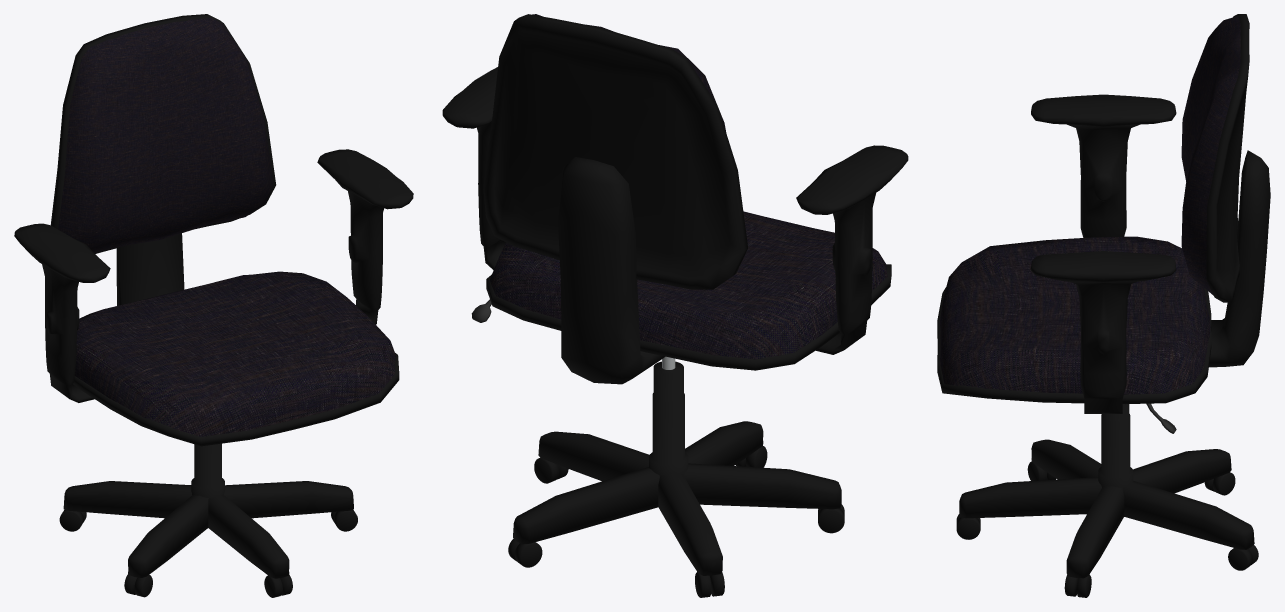
File: Chair3.fbx
3 renders of one model, left to right at view 1: azimuth 30°, elevation 25°; view 2: azimuth 150°, elevation 25°; view 3: azimuth 270°, elevation 25°, orthographic. The views are drawn at different scales.
Visible parts, largest first — view 1: Backrest, Seat, Arms, Foot 2, Foot 4, Base seat and backrest, Foot 1, Foot 5, Rubber seat, Rubber back, Base; view 2: Rubber back, Seat, Base seat and backrest, Arms, Foot 3, Foot 5, Foot 4, Foot 2, Rubber seat, Base, Foot 1; view 3: Seat, Arms, Backrest, Base seat and backrest, Rubber back, Foot 3, Foot 1, Foot 2, Foot 4, Rubber seat, Base, Foot 5.
Part boxes in pixels (x1,y1,x2,y2): Backrest: (58,18,273,253); Seat: (75,271,395,436); Arms: (14,149,413,402); Foot 2: (224,481,357,531); Foot 4: (59,481,191,531); Base seat and backrest: (116,233,184,305); Foot 1: (208,494,292,597); Foot 5: (124,494,208,597); Rubber seat: (73,353,399,446); Rubber back: (50,14,276,253); Base: (191,443,224,498); Rubber back: (483,14,747,289); Seat: (490,211,887,359); Base seat and backrest: (558,157,664,384); Arms: (442,67,908,354); Foot 3: (508,467,659,567); Foot 5: (684,463,844,533); Foot 4: (658,473,724,597); Foot 2: (534,431,649,483); Rubber seat: (486,264,891,370); Base: (649,361,688,476); Foot 1: (685,421,767,467); Seat: (940,236,1210,394); Arms: (1031,94,1176,413); Backrest: (1181,16,1240,295); Base seat and backrest: (1209,150,1270,367); Rubber back: (1206,14,1249,302); Foot 3: (1122,481,1258,570); Foot 1: (956,477,1101,539); Foot 2: (1064,486,1124,597); Foot 4: (1133,449,1235,495); Rubber seat: (937,287,1211,404); Base: (1098,404,1133,487); Foot 5: (1027,439,1101,480).
Size of the model in its own units: 355 by 457 by 279.
Materials: 4 (3 with a texture image).
